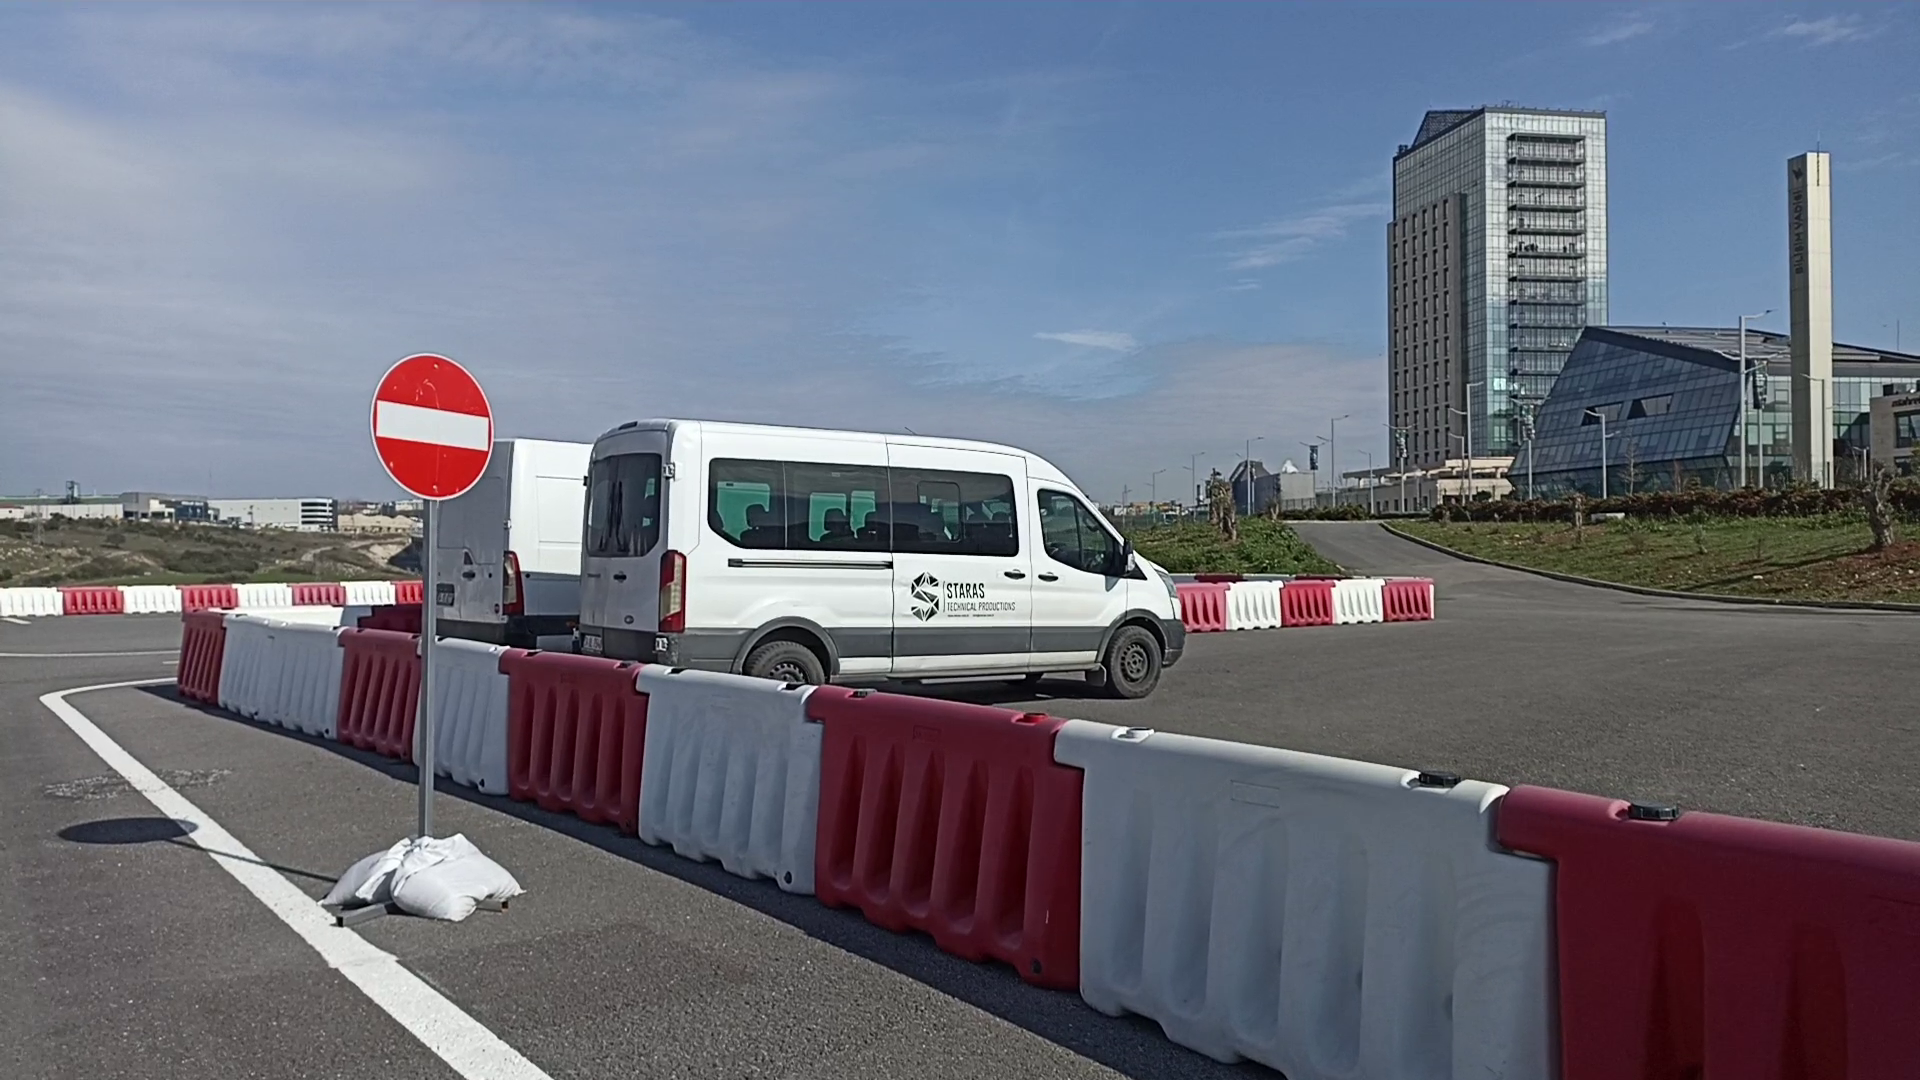noentryway: (369, 351, 498, 502)
